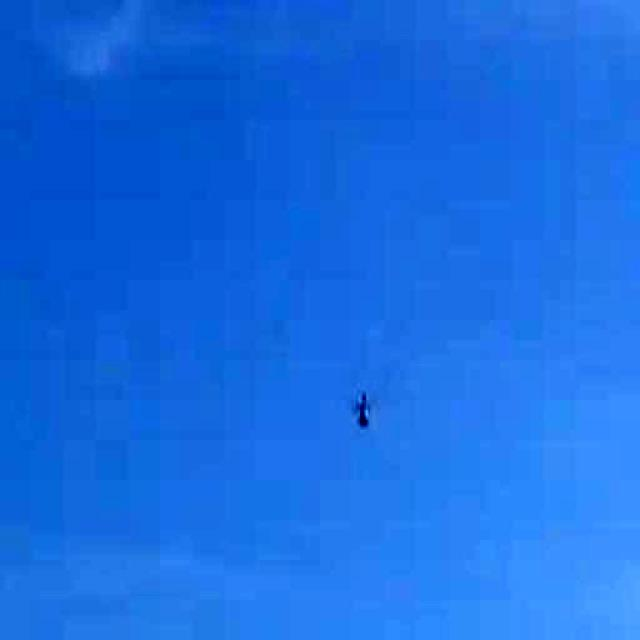drone: (324, 360, 400, 462)
